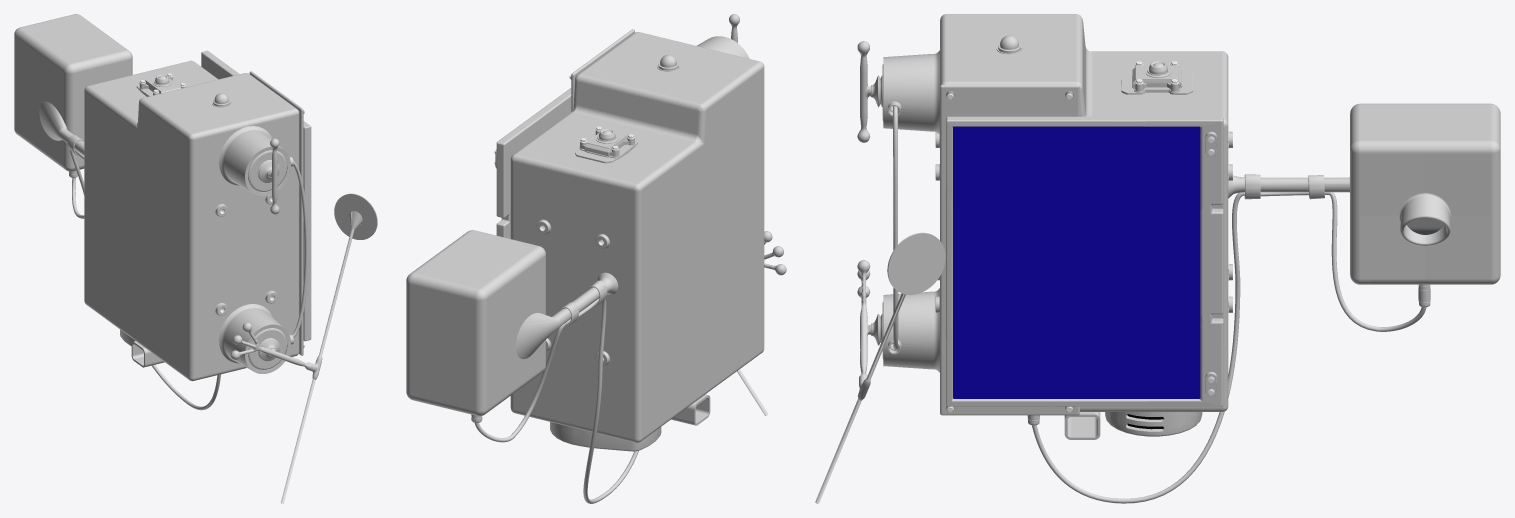
Rendered from instrument_white-v1.glb.
3 renders of one model, left to right at view 1: azimuth 30°, elevation 25°; view 2: azimuth 150°, elevation 25°; view 3: azimuth 270°, elevation 25°, orthographic. The views are drawn at different scales.
Visible parts, largest first — view 1: Main Body, Camera, Protrusion 1, Protrusion 2, ScreenFrame, air connection, Handles, Mirror, Plate, Mirror handle, Camera Handle, Lid (+4 smaller); view 2: Main Body, Camera, ScreenFrame, air connection, Camera Handle, Battery?, main-housing.008, Cube.004, Handles, Protrusion 1, Body Holes, Plate (+1 smaller); view 3: Screen, Camera, Main Body, ScreenFrame, Plate, air connection, Protrusion 1, Protrusion 2, Mirror, Handles, Battery?, main-housing.008 (+4 smaller).
Boxes of the visible parts, x1,y1,x2,y2 form: Main Body: (84,60,299,381); Camera: (14,14,132,171); Protrusion 1: (219,126,290,196); Protrusion 2: (219,304,290,373); ScreenFrame: (201,50,311,341); air connection: (69,149,308,410); Handles: (230,138,322,379); Mirror: (334,193,377,239); Plate: (249,71,303,355); Mirror handle: (281,211,362,503); Camera Handle: (39,101,84,155); Lid: (248,150,287,191); Main Body: (510,32,764,442); Camera: (406,230,545,416); ScreenFrame: (496,88,571,238); air connection: (474,298,638,503); Camera Handle: (516,272,618,359); Battery?: (550,422,661,451); main-housing.008: (575,126,637,163); Cube.004: (671,394,710,425); Handles: (729,14,786,275); Protrusion 1: (696,36,749,58); Body Holes: (536,219,610,365); Plate: (571,29,634,111); Screen: (953,126,1200,398); Camera: (1350,103,1500,284); Main Body: (940,14,1228,411); ScreenFrame: (946,116,1223,406); Plate: (940,85,1079,415); air connection: (893,106,1426,503); Protrusion 1: (883,50,940,134); Protrusion 2: (883,288,939,372); Mirror: (887,232,945,294); Handles: (857,41,870,400); Battery?: (1105,412,1202,436); main-housing.008: (1121,61,1192,94).
Size of the model in its own units: 0.1998 by 0.4039 by 0.5287.
8 materials, 2 textured.
